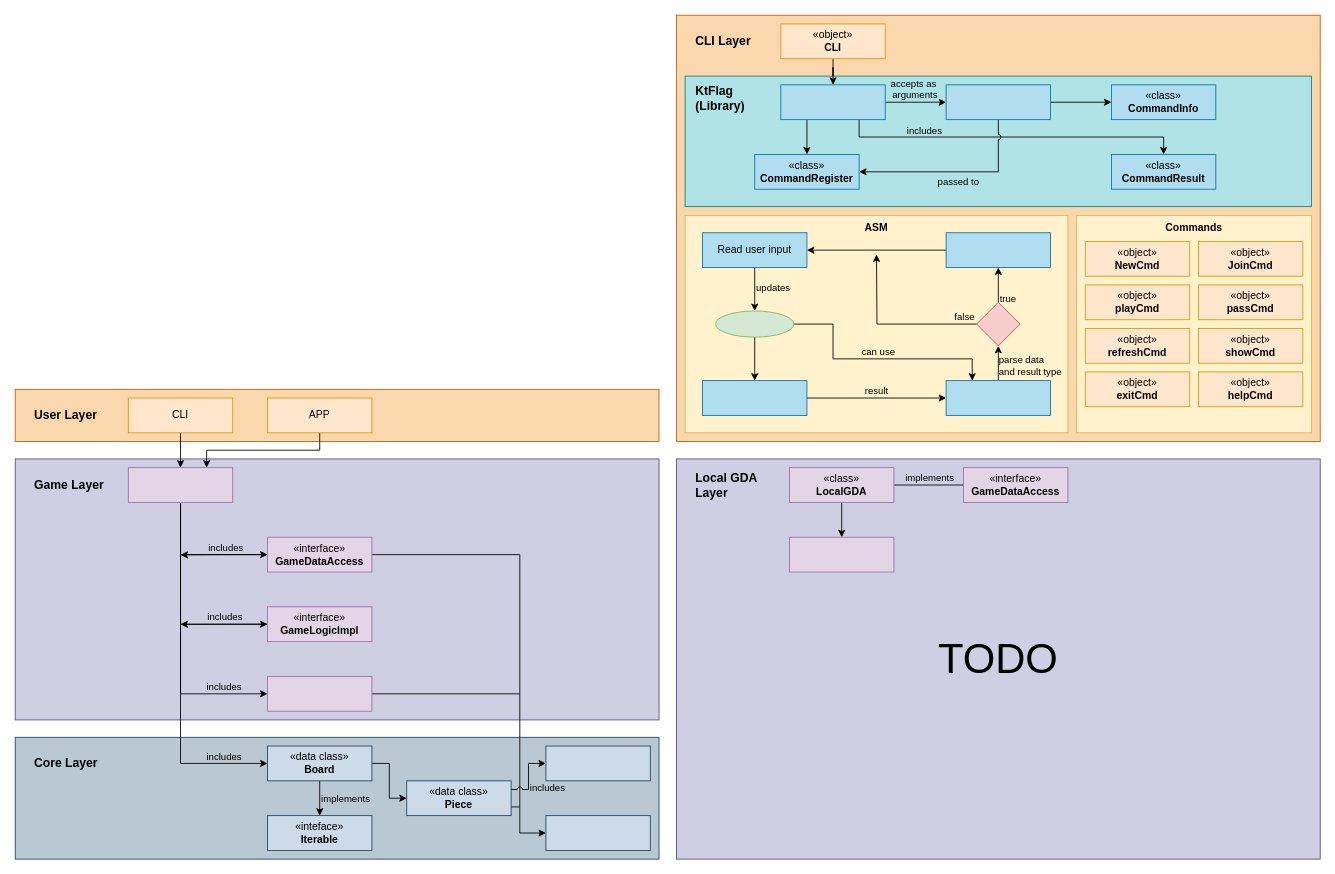
The diagram is 1335 pixels wide and 874 high, and some of its shapes have lost their labels. Here are the shapes that lost their labels. From the top down, the centre of each, then its label:
the point at 832,102: «class» CommandParser
the point at 998,102: «open class» CommandImpl
the point at 998,250: Apply changes
the point at 754,323: input
the point at 998,323: canApply
the point at 754,397: Parse to Result
the point at 998,397: Parse Result
the point at 180,484: «interface» GameImpl
the point at 841,554: «object» GameFileAccess
the point at 319,693: «data class» Player
the point at 597,763: «data class» Coordinate
the point at 597,832: «enum class» PieceType
